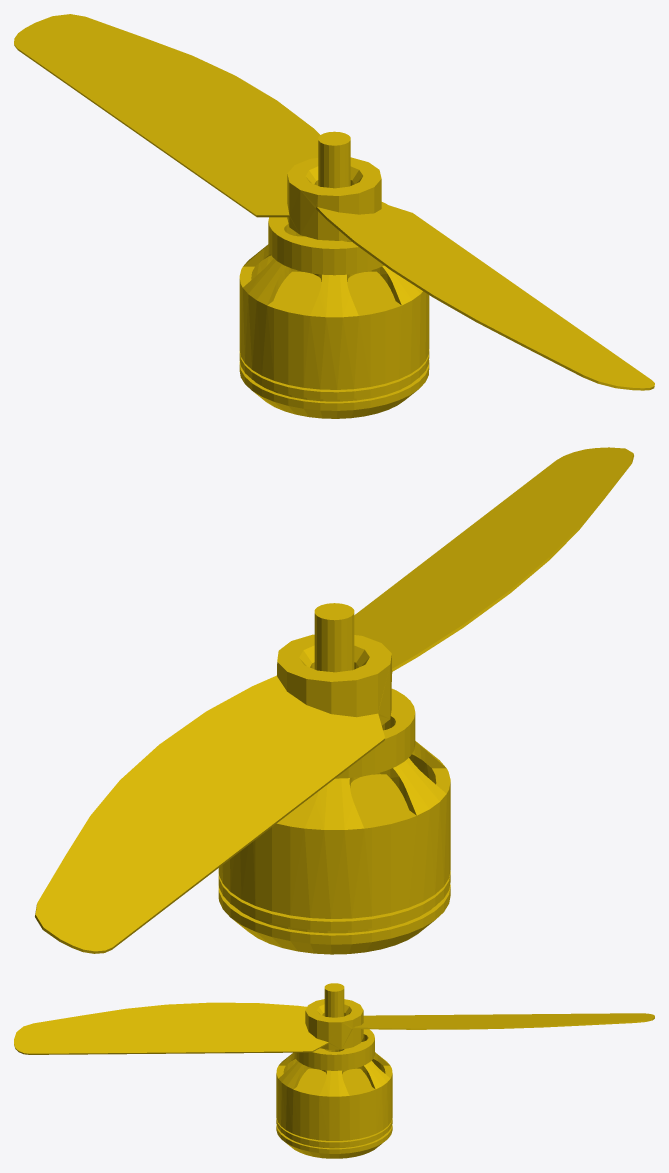
File: motor1urss.dae
3 views of the same model, one above another, from view 1: azimuth 30°, elevation 25°; view 2: azimuth 150°, elevation 25°; view 3: azimuth 270°, elevation 25° (orthographic). The views are drawn at different scales.
Visible parts, largest first — view 1: motor1; view 2: motor1; view 3: motor1.
Part boxes in pixels (x1=…): motor1: x1=14, y1=14, x2=654, y2=418; motor1: x1=35, y1=447, x2=633, y2=954; motor1: x1=14, y1=983, x2=654, y2=1158.
Bounding box in the file's own units: 0.023 × 0.1268 × 0.0348.
